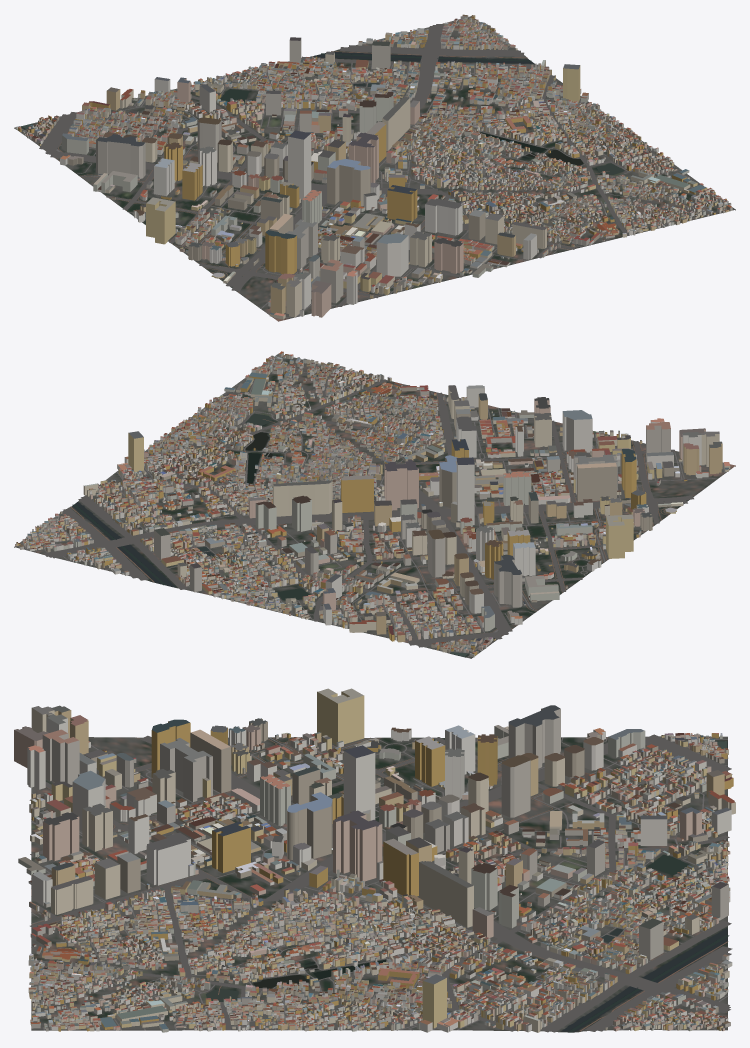
3 renders of one model, top to bottom at view 1: azimuth 30°, elevation 25°; view 2: azimuth 150°, elevation 25°; view 3: azimuth 270°, elevation 25°, orthographic. The views are drawn at different scales.
Visible parts, largest first — view 1: walls, roofs, ground, roads, water; view 2: walls, roofs, ground, roads, water; view 3: walls, roofs, ground, roads, water.
Part boxes in pixels (bbox=[...]): walls: bbox=[15, 15, 732, 319]; roofs: bbox=[16, 14, 731, 316]; ground: bbox=[14, 16, 735, 321]; roads: bbox=[20, 19, 729, 318]; water: bbox=[21, 51, 624, 308]; walls: bbox=[15, 352, 730, 657]; roofs: bbox=[15, 351, 729, 654]; ground: bbox=[14, 353, 735, 658]; roads: bbox=[16, 355, 725, 657]; water: bbox=[72, 413, 713, 656]; walls: bbox=[14, 691, 735, 1032]; roofs: bbox=[15, 688, 734, 1029]; ground: bbox=[31, 736, 727, 1032]; roads: bbox=[29, 734, 732, 1032]; water: bbox=[205, 741, 729, 1032].
Size of the model in its own units: 1443 by 182 by 1453.
